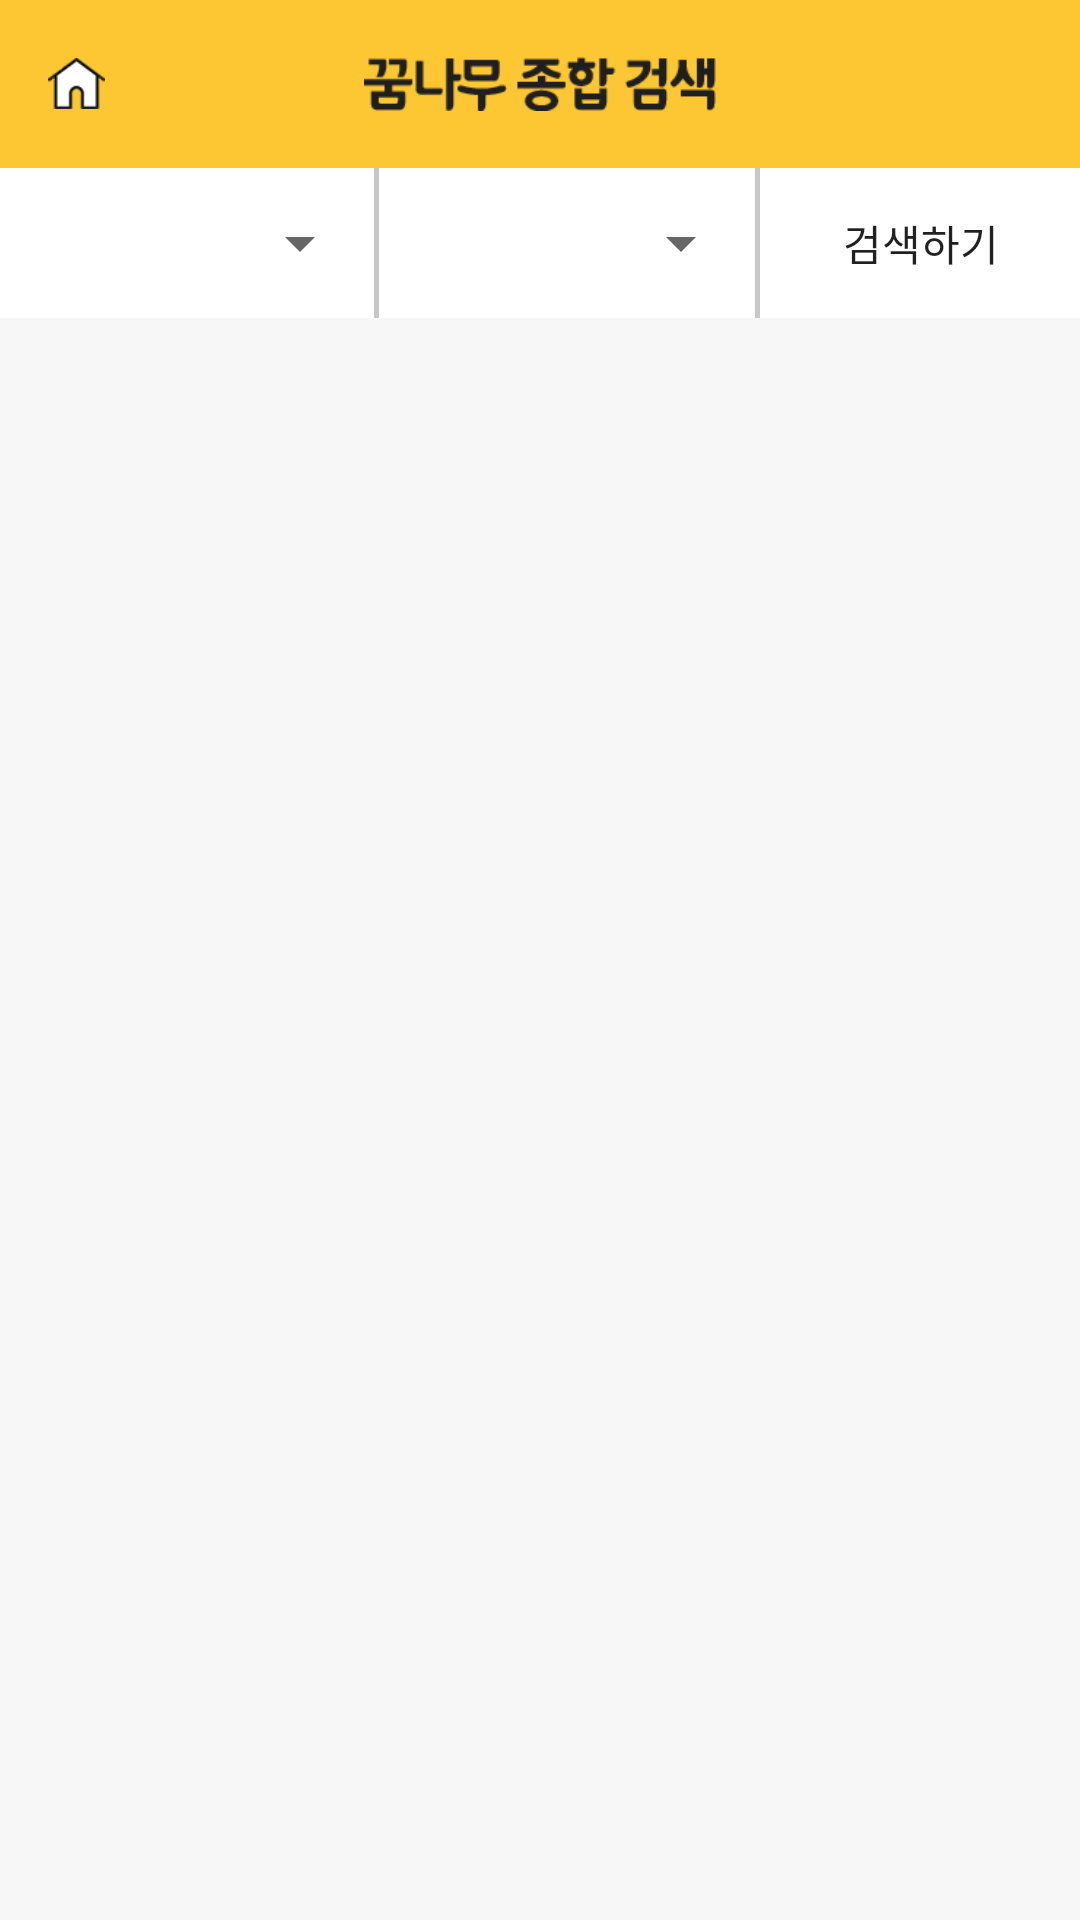

Screen size 1080px x 1920px. Icon name, then its box in pixels as (x1, y1, x2, y2):
card home: (48, 58, 105, 109)
